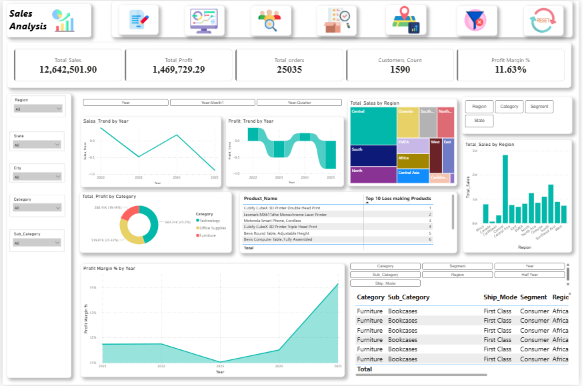

What the dashboard file says about the page in this screenshot:
{"tool":"powerbi","page":{"name":"Dashboard","canvas":[1920,1280],"ordinal":0},"visuals":[{"type":"shape","box":[362,0,1536,122],"z":0},{"type":"tableEx","fields":{"Values":["GlobalSuperStore.Category","GlobalSuperStore.Sub_Category","GlobalSuperStore.Ship_Mode","GlobalSuperStore.Segment","GlobalSuperStore.Region","Date_table.Year","Date_table.Half Year","GlobalSuperStore.Sales Contribution%"]},"box":[1167.5,967.5,730,290],"z":0,"group":"g1"},{"type":"shape","box":[12.5,310,215,947.5],"z":1000},{"type":"donutChart","fields":{"Category":["GlobalSuperStore.Category"],"Y":["GlobalSuperStore.Total_Profit"]},"box":[255,636.1,506.5,203.3],"z":1000,"group":"g1"},{"type":"slicer","fields":{"Values":["GlobalSuperStore.Sub_Category"]},"box":[24,764,182,74],"z":2000},{"type":"ChicletSlicer1448559807354","fields":{"Category":["Xaxis.Xaxis"]},"box":[1149.4,868,746.9,92.5],"z":2000,"group":"g1"},{"type":"textbox","box":[12,10,282,112],"z":3000},{"type":"clusteredColumnChart","fields":{"Category":["GlobalSuperStore.Region","GlobalSuperStore.State","GlobalSuperStore.Category","GlobalSuperStore.Segment"],"Y":["GlobalSuperStore.Total_Sales"]},"box":[1531.2,464.6,364.2,375.9],"z":3000,"group":"g1"},{"type":"ribbonChart","fields":{"Category":["Date_table.Year","Date_table.Year-Month1","Date_table.Year-Quarter"],"Y":["GlobalSuperStore.Profit_Trend"]},"box":[741,386.2,393.9,233.3],"z":4000,"group":"g1"},{"type":"slicer","fields":{"Values":["GlobalSuperStore.Category"]},"box":[24,646,184,74],"z":4000},{"type":"lineChart","fields":{"Category":["Date_table.Year","Date_table.Year-Month1","Date_table.Year-Quarter"],"Y":["GlobalSuperStore.Dynamic_growth%_sales"]},"box":[256.7,386.2,468.9,234.9],"z":5000,"group":"g1"},{"type":"slicer","fields":{"Values":["GlobalSuperStore.State"]},"box":[24,438,182,64],"z":5000},{"type":"image","box":[132,24,140,98],"z":6000},{"type":"map","fields":{"Size":["GlobalSuperStore.Total_Sales"],"Category":["GlobalSuperStore.Region"]},"box":[1146.8,326.2,364.9,291.6],"z":6000,"group":"g1"},{"type":"ChicletSlicer1448559807354","fields":{"Category":["sales_xaxis.sales_xaxis"]},"box":[1529.2,320,368.3,124],"z":7000,"group":"g1"},{"type":"slicer","fields":{"Values":["GlobalSuperStore.City"]},"box":[24,542,184,62],"z":7000},{"type":"slicer","fields":{"Values":["GlobalSuperStore.Region"]},"box":[25,315,183.3,71.7],"z":8000},{"type":"lineChart","fields":{"Y":["GlobalSuperStore.Profit Margin %"],"Category":["Date_table.Date.Variation.Date Hierarchy.Year"]},"box":[259.3,878.1,879.9,377.4],"z":8000,"group":"g1"},{"type":"group","id":"g1","title":"Dashboard","box":[255,320,1642.5,937.5],"z":9000},{"type":"ChicletSlicer1448559807354","fields":{"Category":["Date_columns.Date_columns"]},"box":[256.7,320.7,878.2,41.7],"z":9000,"group":"g1"},{"type":"tableEx","fields":{"Values":["GlobalSuperStore.Product_Name","GlobalSuperStore.Top 10 Loss making Products"]},"box":[787,636.1,724.7,204.9],"z":10000,"group":"g1"},{"type":"image","box":[605,22.5,132.5,87.5],"z":13000},{"type":"shape","box":[605,15,132.5,100],"z":14000},{"type":"shape","box":[825,17.5,135,100],"z":15000},{"type":"shape","box":[1045,17.5,132.5,100],"z":16000},{"type":"shape","box":[1277.5,12.5,135,100],"z":17000},{"type":"shape","box":[1735,15,132.5,100],"z":18000},{"type":"cardVisual","fields":{"Data":["GlobalSuperStore.Total_Sales","GlobalSuperStore.Total_Profit","GlobalSuperStore.#Orders","GlobalSuperStore.Customers_Count","GlobalSuperStore.Profit Margin %"]},"box":[18,140,1878,150],"z":19000},{"type":"image","box":[837.5,27.5,110,80],"z":20000},{"type":"image","box":[1055,22.5,115,85],"z":21000},{"type":"image","box":[1750,22.5,107.5,87.5],"z":22000},{"type":"image","box":[1285,17.5,120,95],"z":23000},{"type":"shape","box":[385,12.5,132.5,100],"z":24000},{"type":"image","box":[407.5,2.5,90,115],"z":25000},{"type":"shape","box":[1512.5,15,135,100],"z":26000},{"type":"image","box":[1530,22.5,95,85],"z":27000}]}

Visuals, with their boxes in screenshot pixels (x1, y1, x2, y2), scaled from the page's 1920x1280 canvas onto the 583x387 screenshot:
shape: [left=110, top=0, right=576, bottom=37]
tableEx - GlobalSuperStore.Category x GlobalSuperStore.Sub_Category: [left=355, top=293, right=576, bottom=380]
shape: [left=4, top=94, right=69, bottom=380]
donutChart - GlobalSuperStore.Category x GlobalSuperStore.Total_Profit: [left=77, top=192, right=231, bottom=254]
slicer - GlobalSuperStore.Sub_Category: [left=7, top=231, right=63, bottom=253]
ChicletSlicer1448559807354 - Xaxis.Xaxis: [left=349, top=262, right=576, bottom=290]
textbox: [left=4, top=3, right=89, bottom=37]
clusteredColumnChart - GlobalSuperStore.Region x GlobalSuperStore.State: [left=465, top=140, right=576, bottom=254]
ribbonChart - Date_table.Year x Date_table.Year-Month1: [left=225, top=117, right=345, bottom=187]
slicer - GlobalSuperStore.Category: [left=7, top=195, right=63, bottom=218]
lineChart - Date_table.Year x Date_table.Year-Month1: [left=78, top=117, right=220, bottom=188]
slicer - GlobalSuperStore.State: [left=7, top=132, right=63, bottom=152]
image: [left=40, top=7, right=83, bottom=37]
map - GlobalSuperStore.Total_Sales x GlobalSuperStore.Region: [left=348, top=99, right=459, bottom=187]
ChicletSlicer1448559807354 - sales_xaxis.sales_xaxis: [left=464, top=97, right=576, bottom=134]
slicer - GlobalSuperStore.City: [left=7, top=164, right=63, bottom=183]
slicer - GlobalSuperStore.Region: [left=8, top=95, right=63, bottom=117]
lineChart - GlobalSuperStore.Profit Margin % x Date_table.Date.Variation.Date Hierarchy.Year: [left=79, top=265, right=346, bottom=380]
"Dashboard" group: [left=77, top=97, right=576, bottom=380]
ChicletSlicer1448559807354 - Date_columns.Date_columns: [left=78, top=97, right=345, bottom=110]
tableEx - GlobalSuperStore.Product_Name x GlobalSuperStore.Top 10 Loss making Products: [left=239, top=192, right=459, bottom=254]
image: [left=184, top=7, right=224, bottom=33]
shape: [left=184, top=5, right=224, bottom=35]
shape: [left=251, top=5, right=292, bottom=36]
shape: [left=317, top=5, right=358, bottom=36]
shape: [left=388, top=4, right=429, bottom=34]
shape: [left=527, top=5, right=567, bottom=35]
cardVisual - GlobalSuperStore.Total_Sales x GlobalSuperStore.Total_Profit: [left=5, top=42, right=576, bottom=88]
image: [left=254, top=8, right=288, bottom=33]
image: [left=320, top=7, right=355, bottom=33]
image: [left=531, top=7, right=564, bottom=33]
image: [left=390, top=5, right=427, bottom=34]
shape: [left=117, top=4, right=157, bottom=34]
image: [left=124, top=1, right=151, bottom=36]
shape: [left=459, top=5, right=500, bottom=35]
image: [left=465, top=7, right=493, bottom=33]
